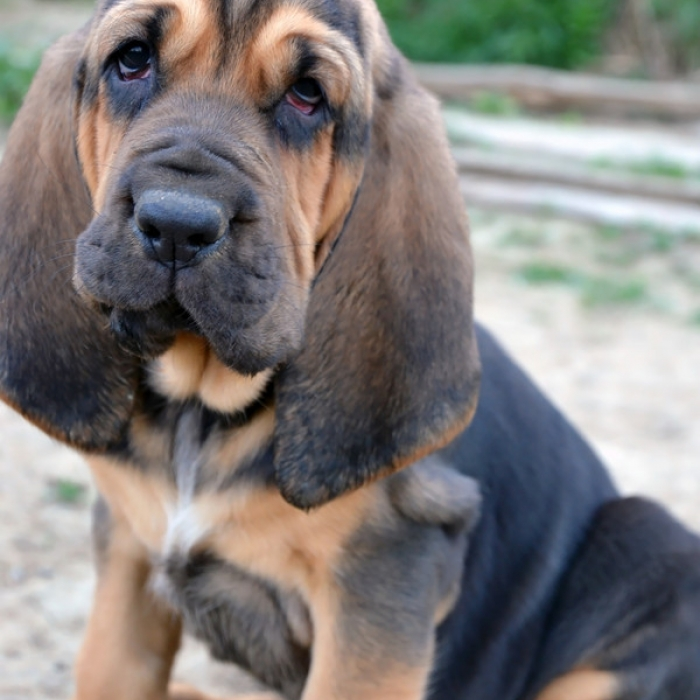dog: (1, 1, 700, 700)
